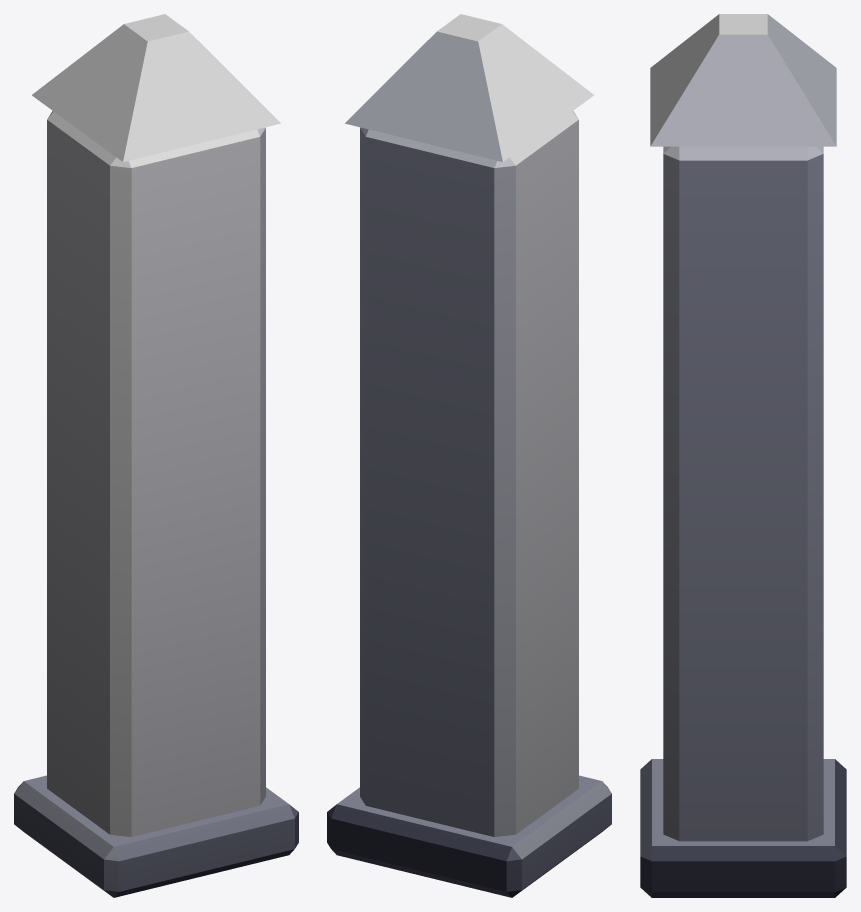
The model's file is fence_post.glb.
3 renders of one model, left to right at view 1: azimuth 30°, elevation 25°; view 2: azimuth 150°, elevation 25°; view 3: azimuth 270°, elevation 25°, orthographic.
Visible parts, largest first — view 1: fence_post; view 2: fence_post; view 3: fence_post.
Part boxes in pixels (x1,y1,x2,y2): fence_post: (14,14,298,897); fence_post: (327,14,611,897); fence_post: (640,14,846,897).
Size of the model in its own units: 0.2 by 0.8 by 0.18.
